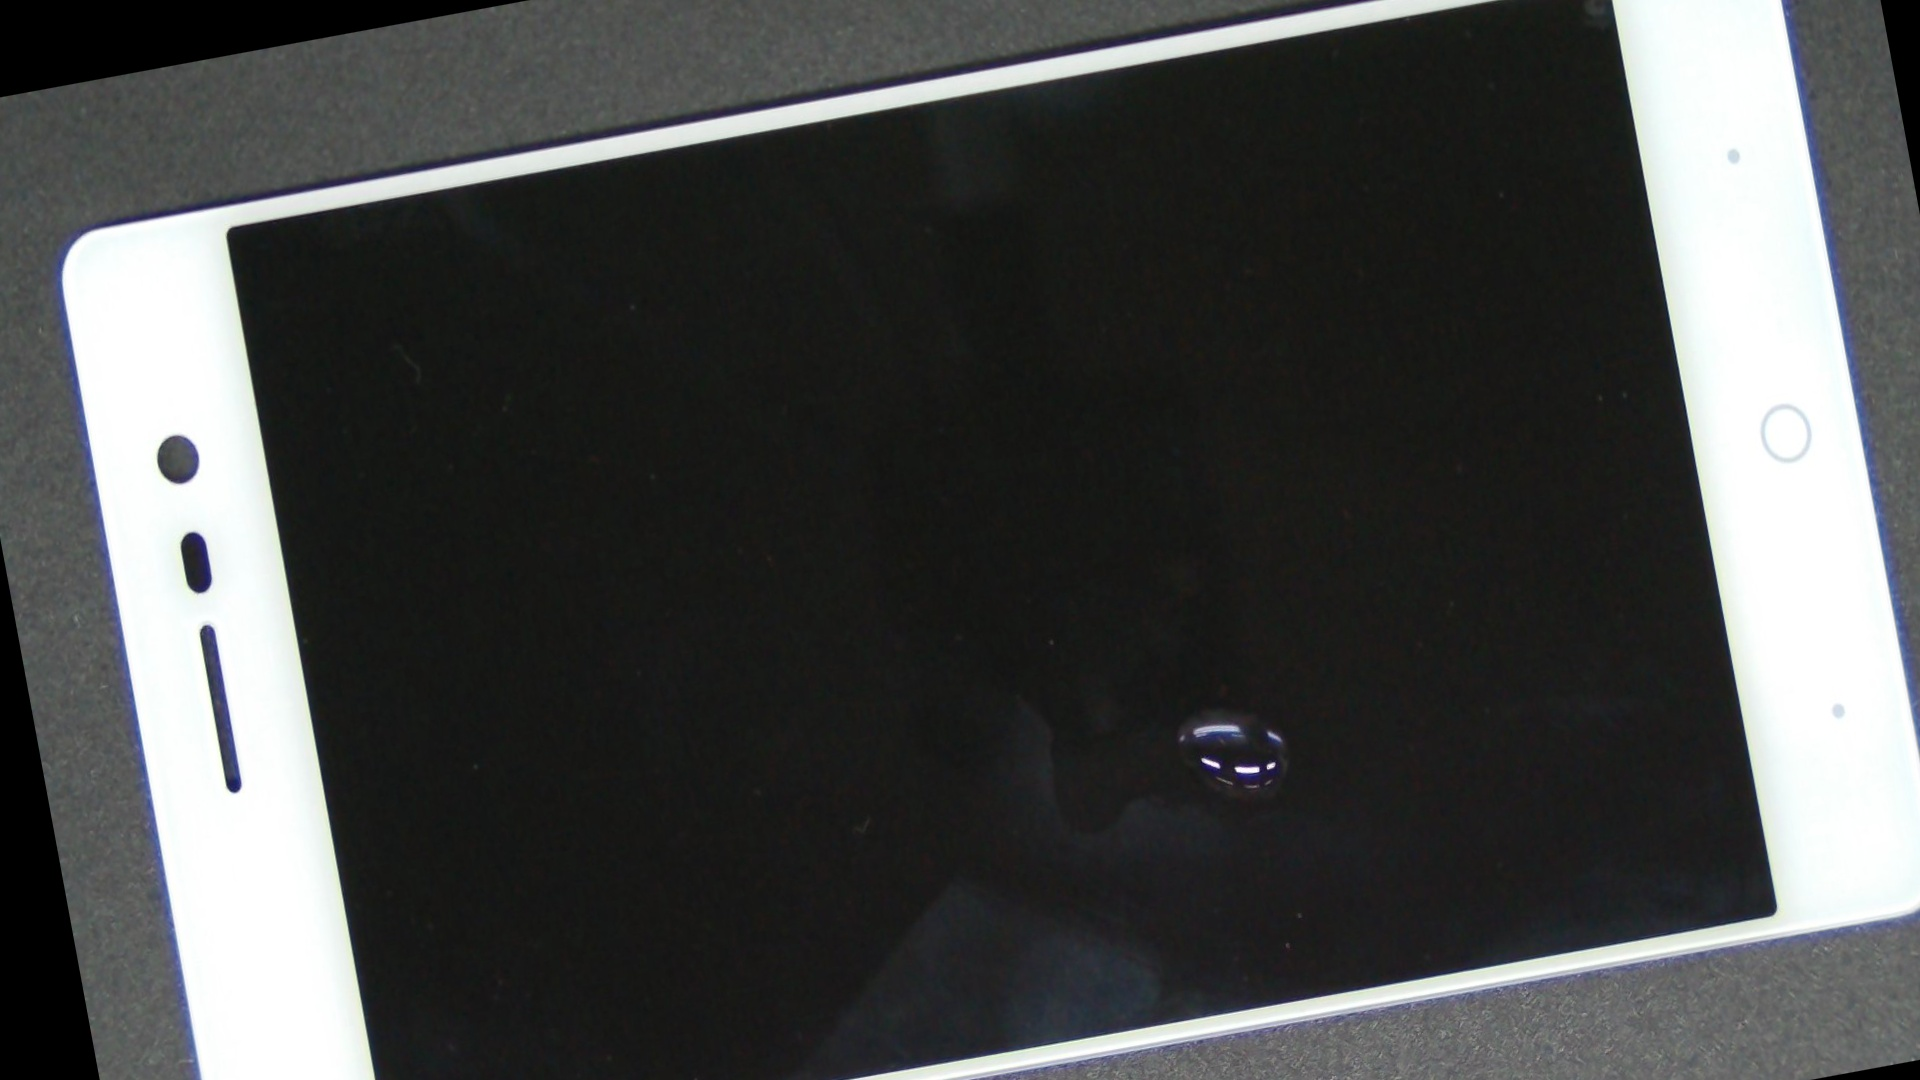oil: (560, 203, 1837, 1080)
